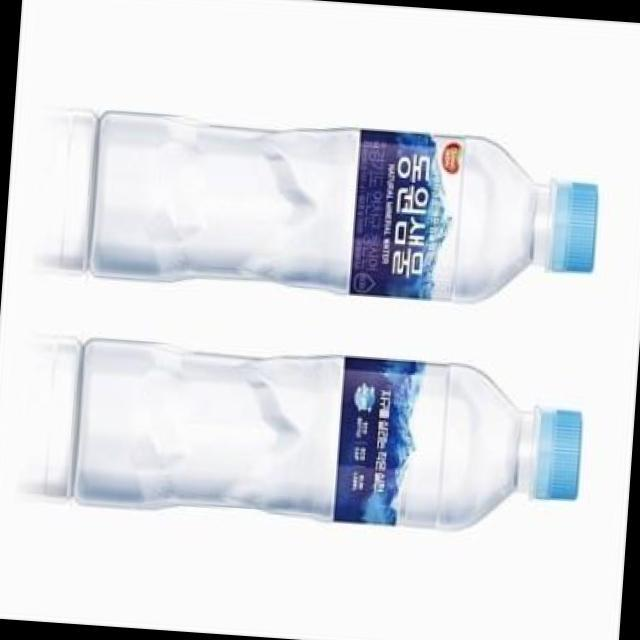good: (19, 74, 620, 335), (10, 307, 602, 565)
